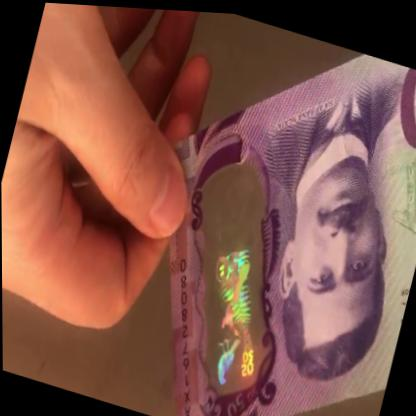50F: (171, 160, 300, 398)
